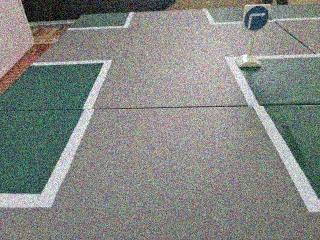right: (240, 5, 275, 32)
